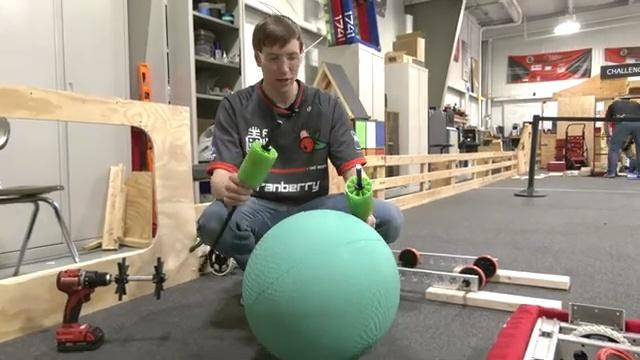ALGAE: (240, 208, 401, 358)
